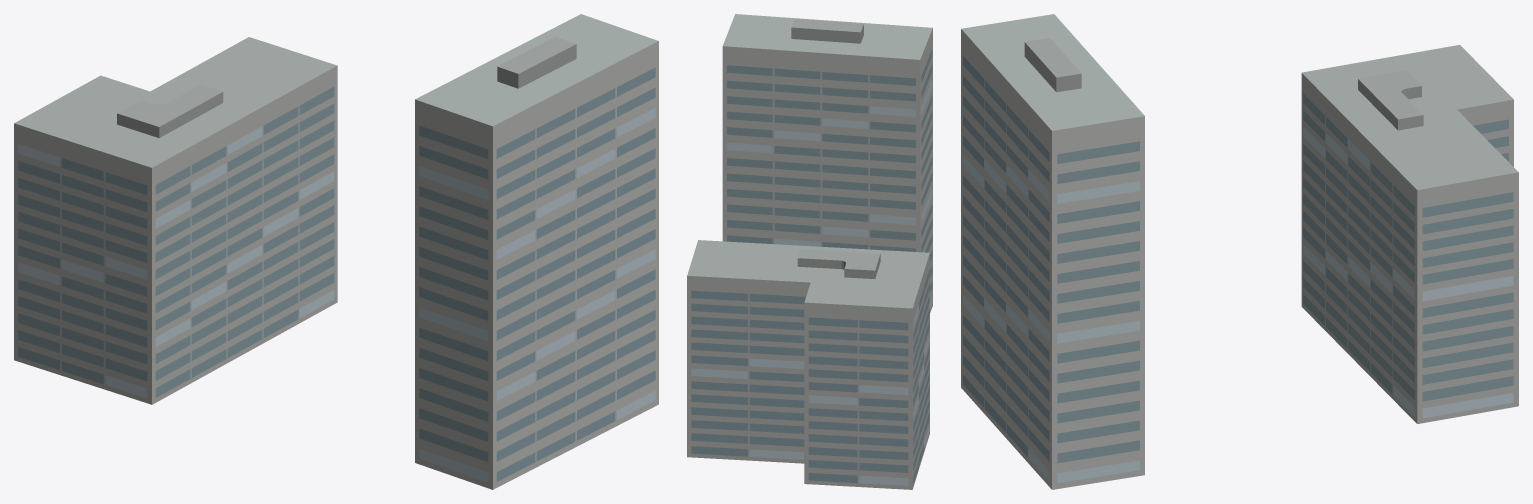
File: apt-a10023020.glb
The picture shows the model from 3 angles, left to right: view 1: azimuth 30°, elevation 25°; view 2: azimuth 150°, elevation 25°; view 3: azimuth 270°, elevation 25°; orthographic projection. The views are drawn at different scales.
Visible parts, largest first — view 1: apt-a10023020; view 2: apt-a10023020; view 3: apt-a10023020.
Boxes of the visible parts, x1,y1,x2,y2 form: apt-a10023020: (14,14,658,489); apt-a10023020: (687,14,932,489); apt-a10023020: (961,14,1518,489).
Size of the model in its own units: 73.93 by 61 by 82.5.
